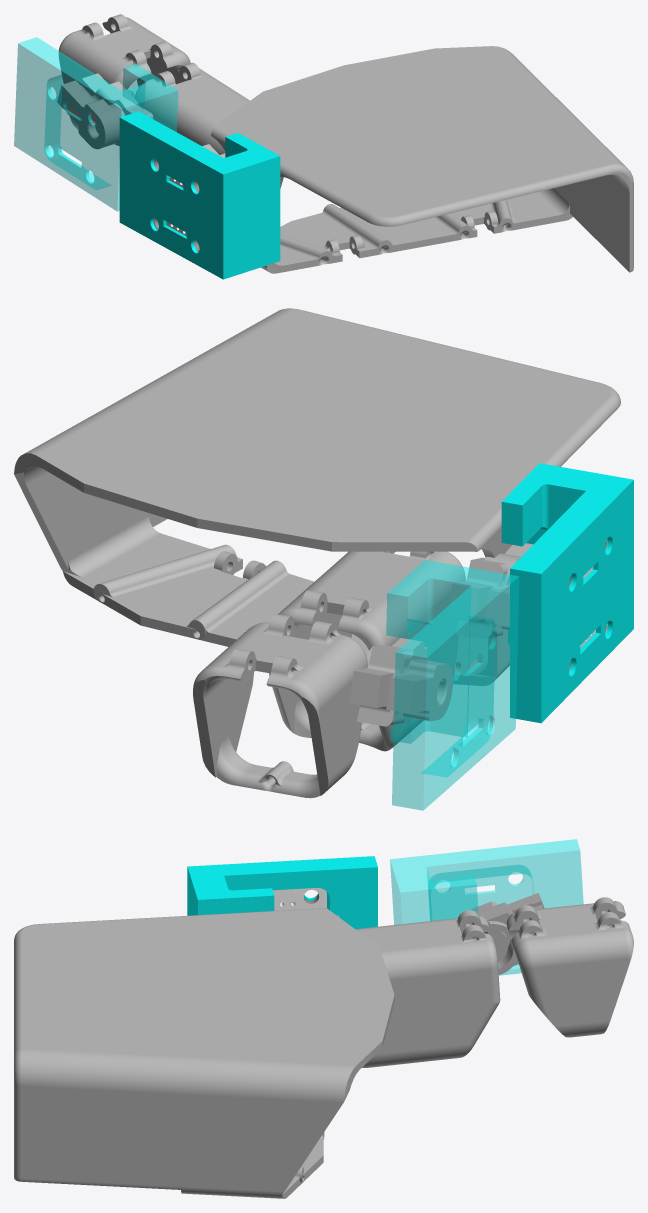
Rendered from haptic glove2.glb.
3 views of the same model, one above another, from view 1: azimuth 30°, elevation 25°; view 2: azimuth 150°, elevation 25°; view 3: azimuth 270°, elevation 25° (orthographic). The views are drawn at different scales.
Parts seen in each view (by area): view 1: Base dorsal partial-1, AS5600 PCB housing-1, Prox_index-1, Mid_index-1; view 2: Base dorsal partial-1, Prox_index-1, AS5600 PCB housing-1, Mid_index-1; view 3: Base dorsal partial-1, Prox_index-1, Mid_index-1, AS5600 PCB housing-1, AS5600-1.
Boxes of the visible parts, bbox=[...] form: Base dorsal partial-1: bbox=[211, 46, 633, 273]; AS5600 PCB housing-1: bbox=[119, 111, 280, 279]; Prox_index-1: bbox=[14, 37, 283, 211]; Mid_index-1: bbox=[57, 14, 190, 149]; Base dorsal partial-1: bbox=[14, 308, 620, 685]; Prox_index-1: bbox=[269, 551, 519, 810]; AS5600 PCB housing-1: bbox=[501, 463, 633, 723]; Mid_index-1: bbox=[193, 613, 453, 798]; Base dorsal partial-1: bbox=[14, 908, 394, 1198]; Prox_index-1: bbox=[337, 839, 583, 1067]; Mid_index-1: bbox=[471, 893, 633, 1037]; AS5600 PCB housing-1: bbox=[187, 856, 377, 928]; AS5600-1: bbox=[273, 888, 326, 910].
Size of the model in its own units: 0.1145 by 0.0385 by 0.1398.
